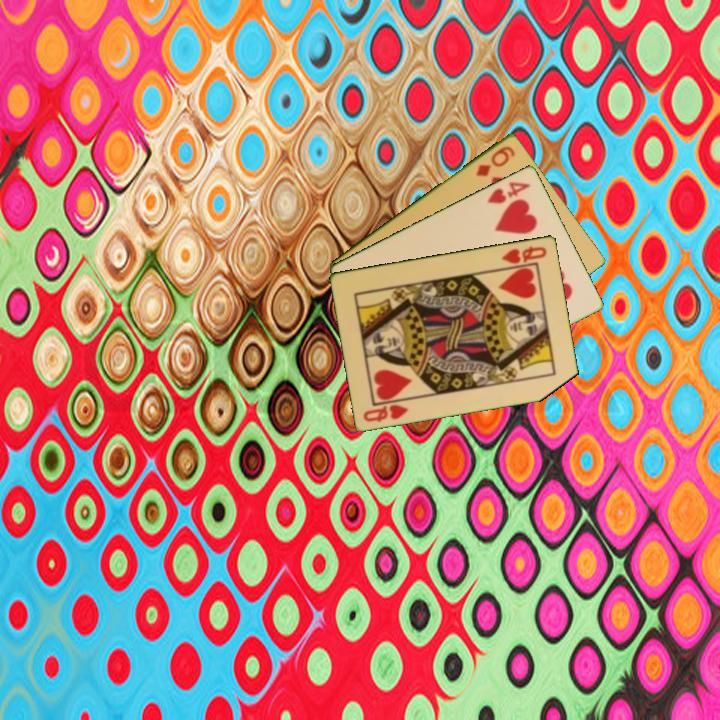4h: (484, 178, 533, 206)
6d: (472, 142, 518, 179)
Qh: (498, 242, 550, 266), (360, 401, 412, 424)
